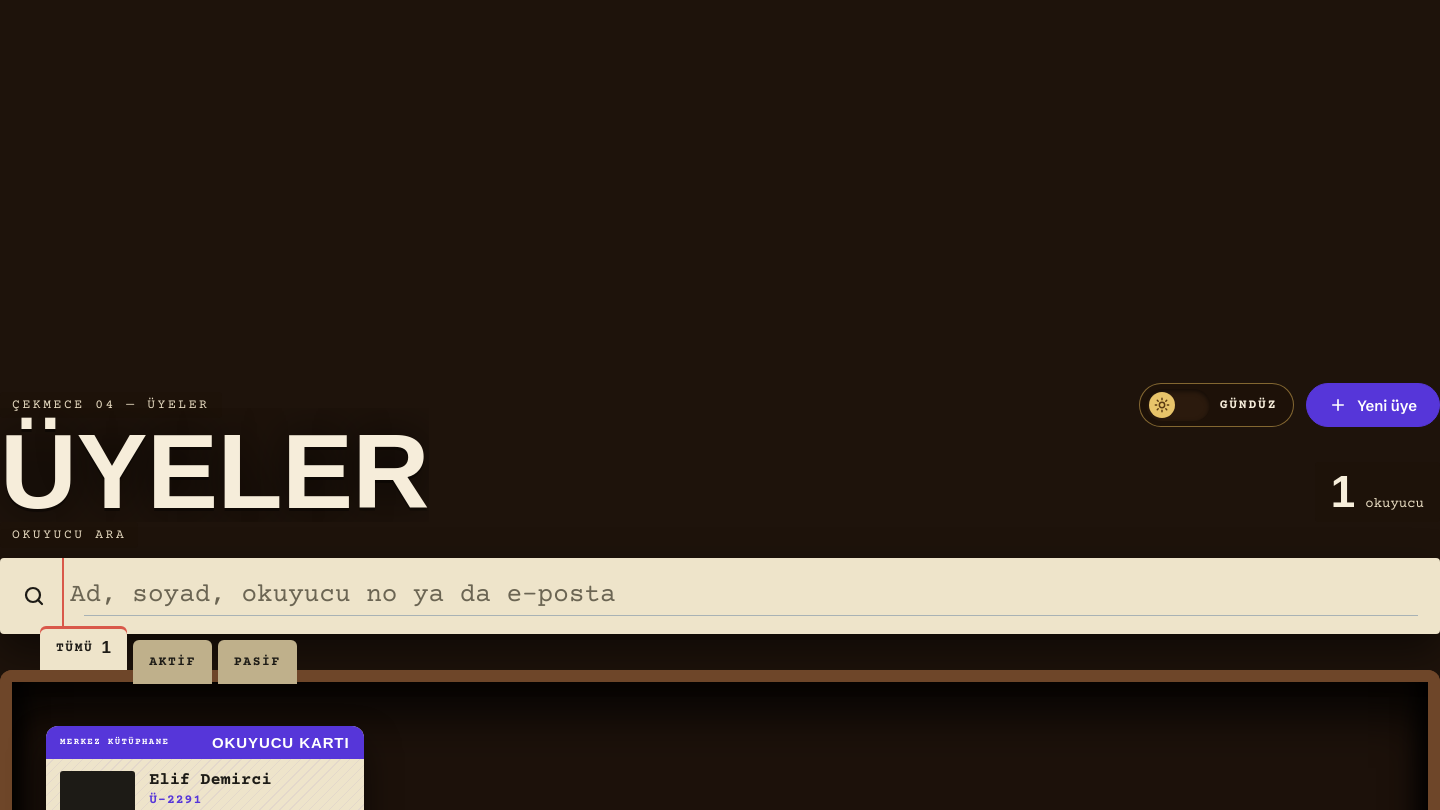
Scenario: Yeni üye fişi › canlı kart yazdıkça dolar
(page scrolled)
Click the button "Yeni üye".
click(1373, 405)  # box [1306,383,1439,427]
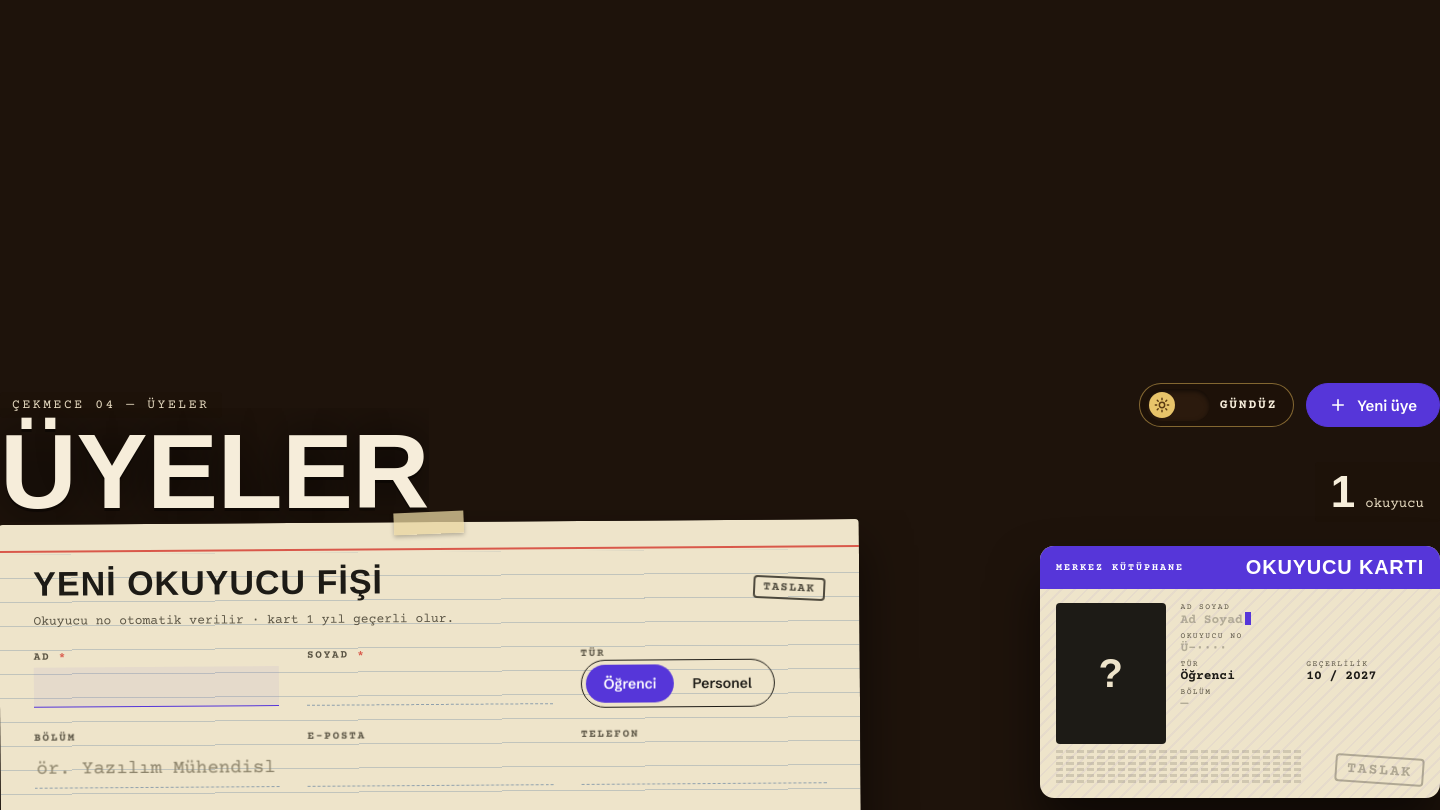
Type "Elif" into the field labelled "Ad *".
click(157, 687); type("Elif")  # box [34,666,279,707]
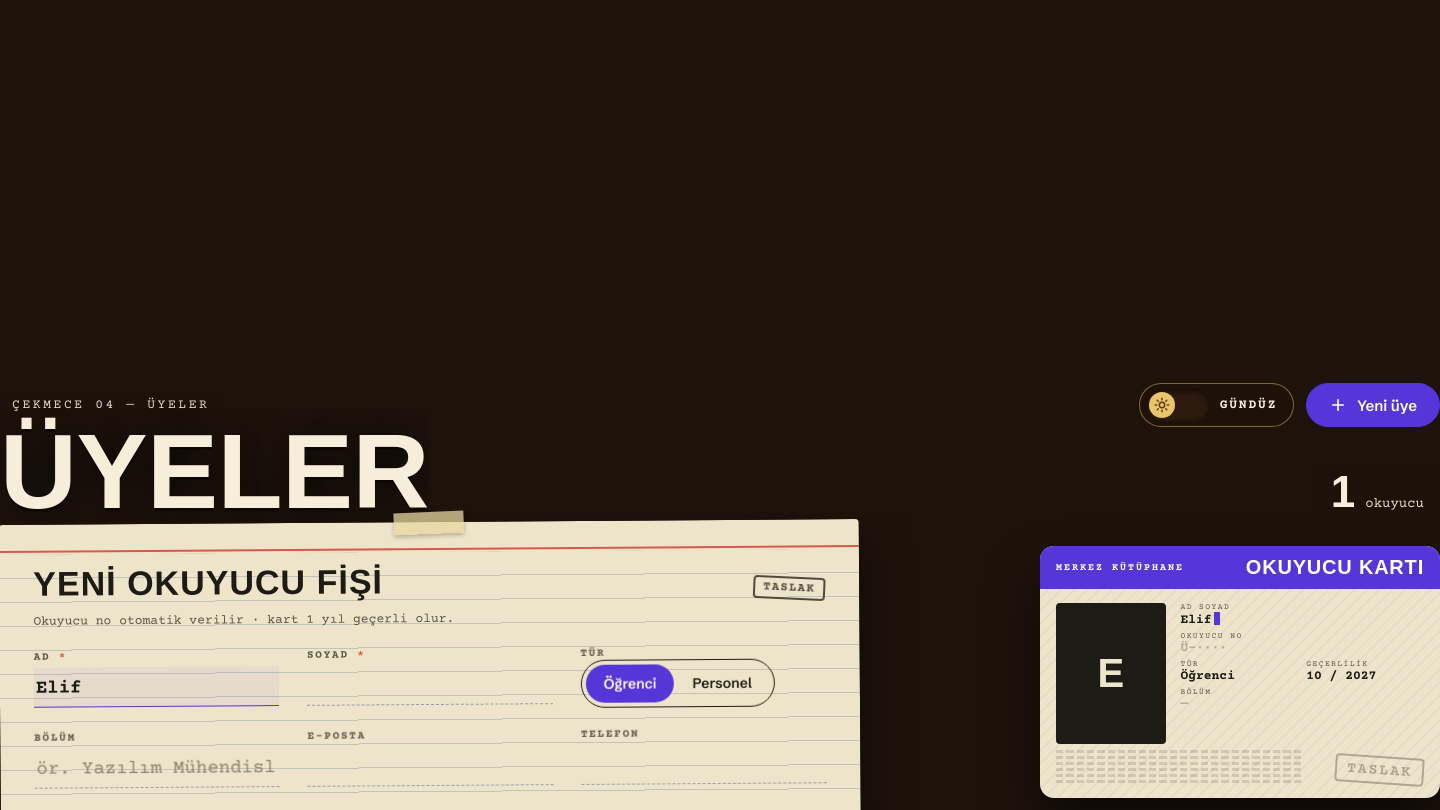
Type "Demirci" into the field labelled "Soyad *".
click(430, 685); type("Demirci")  # box [307,664,553,706]
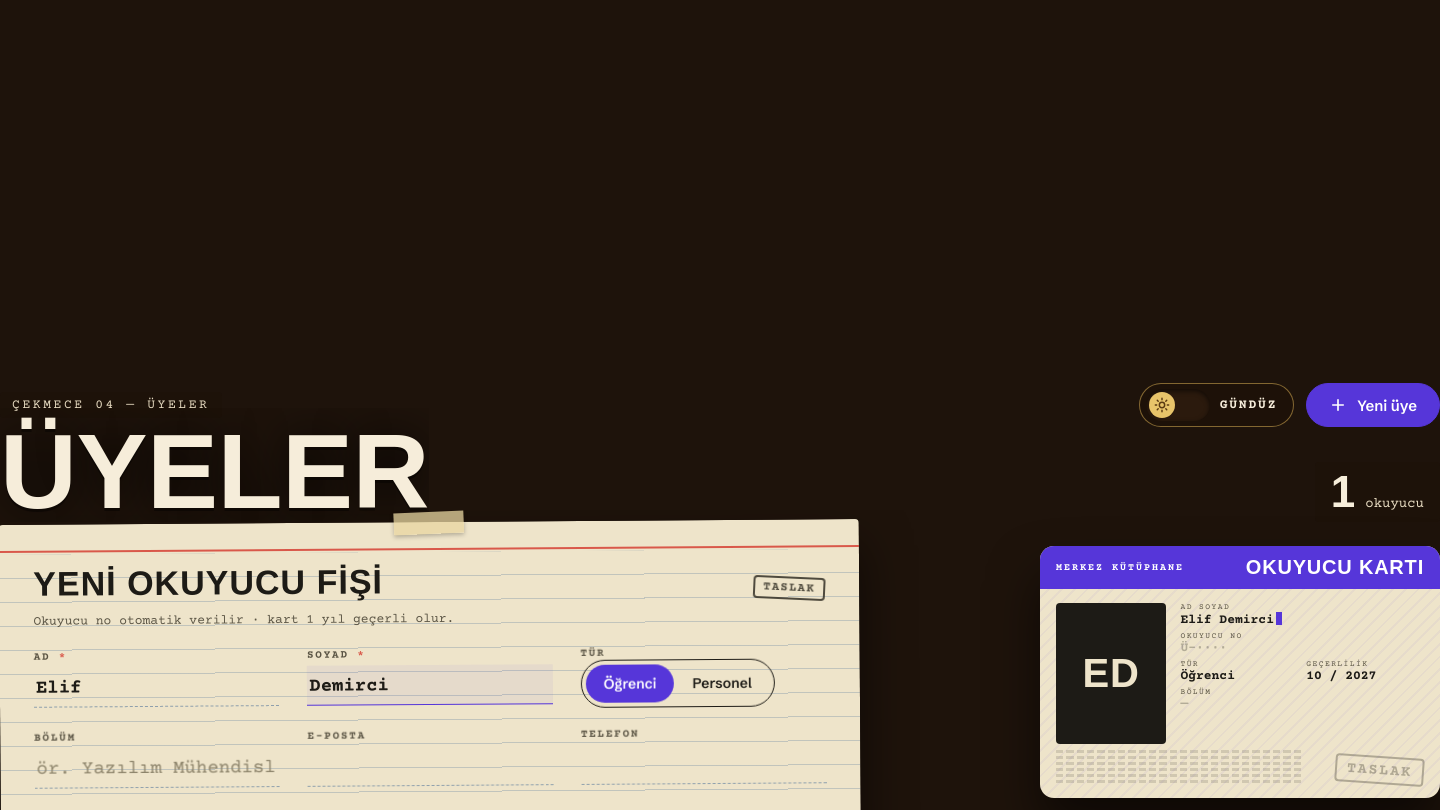
Check: the text "Elif Demirci" is shown, box [1180,612,1282,627]
Check: the text "ED" is shown, box [1056,603,1166,744]
